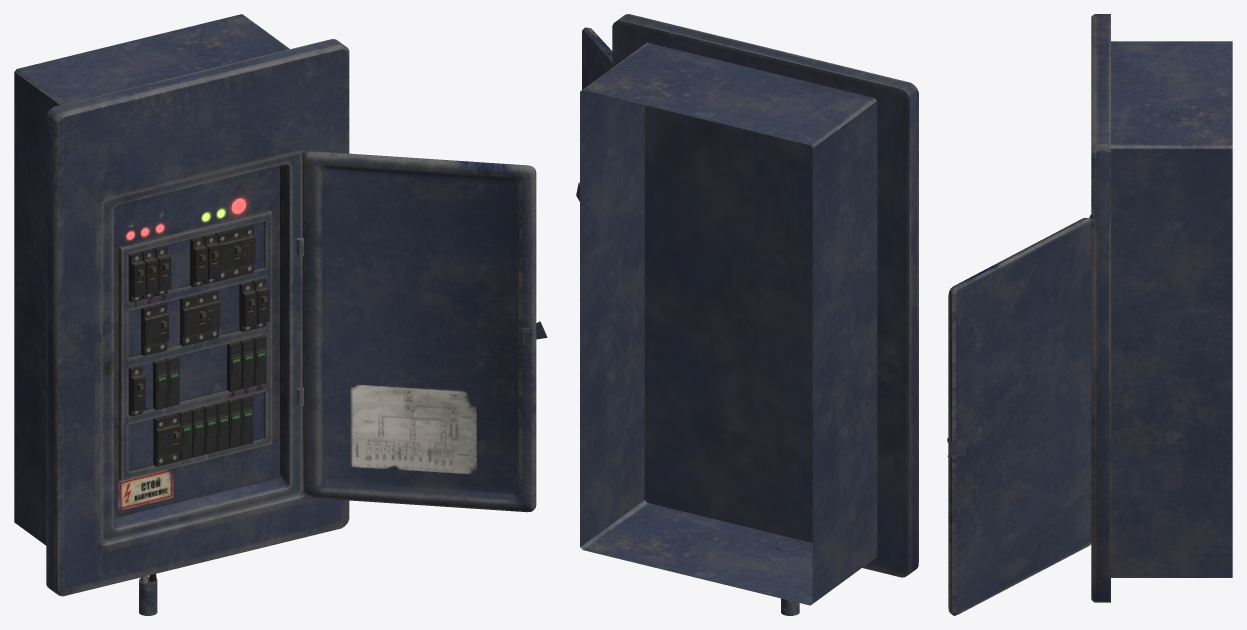
Rendered from switchbox.glb.
The picture shows the model from 3 angles, left to right: view 1: azimuth 30°, elevation 25°; view 2: azimuth 150°, elevation 25°; view 3: azimuth 270°, elevation 25°; orthographic projection. The views are drawn at different scales.
Parts seen in each view (by area): view 1: m; view 2: m; view 3: m.
Boxes of the visible parts, box(x1,y1,x2,y2) form: m: box(14, 14, 547, 615); m: box(576, 14, 918, 615); m: box(947, 14, 1232, 615).
Bounding box in the file's own units: 0.3245 × 0.4 × 0.2029.
1 material, 1 textured.
